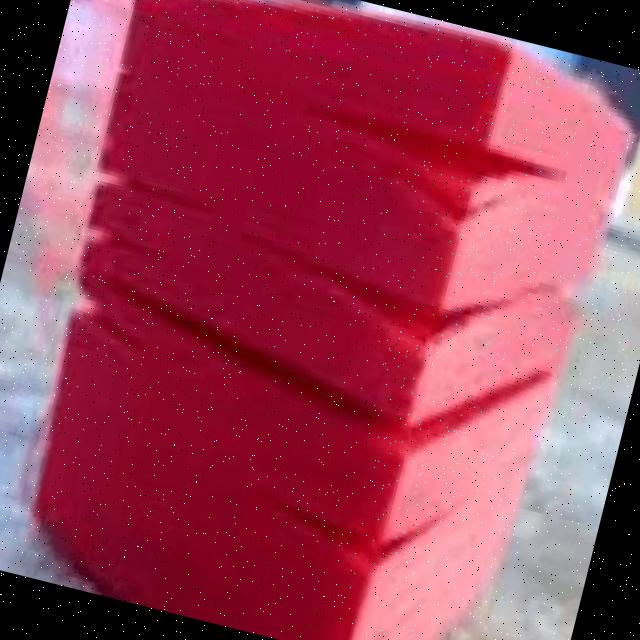cracks: (64, 240, 569, 484), (20, 82, 232, 428), (267, 72, 580, 246), (253, 202, 542, 383), (199, 441, 474, 607)
